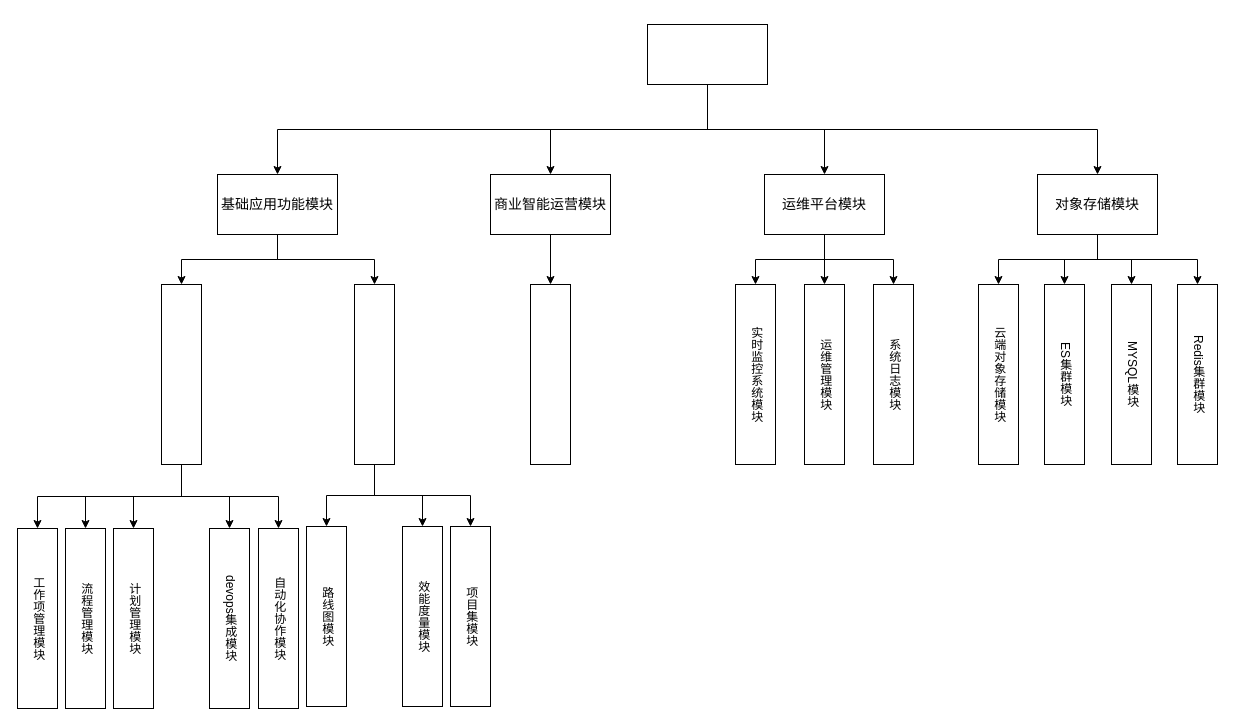
This 1235x726 diagram has some shape labels left out. Here are the shapes that lost their labels. From the top down, the centre of each, then its label:
point (707, 54): 面向企业级应用的腾讯敏捷协作平台的设计与实现
point (181, 374): 团队/产品敏捷模块
point (374, 374): 企业敏捷模块
point (550, 374): 数据可视化模块
